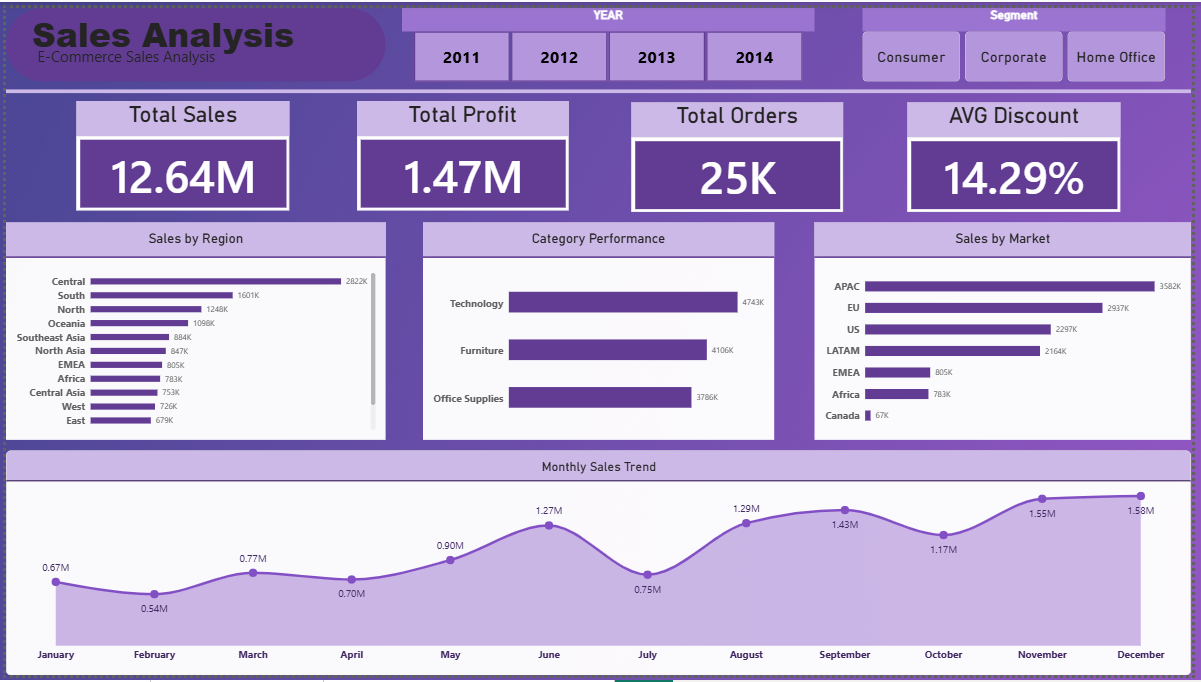

Layout of this report page (visuals, bound fields, positions):
{"tool":"powerbi","page":{"name":"Sales Analysis","canvas":[1920,1080],"ordinal":1},"visuals":[{"type":"shape","box":[0,0,614.5,119],"z":0},{"type":"barChart","title":"Sales by Region","fields":{"Category":["ecommerce_cleaned.region"],"Y":["ecommerce_cleaned.total_sales"]},"box":[0,347.3,614.5,352.2],"z":1000},{"type":"barChart","title":"Category Performance","fields":{"Category":["ecommerce_cleaned.category"],"Y":["ecommerce_cleaned.total_sales"]},"box":[675.2,347.3,568.3,352.2],"z":2000},{"type":"barChart","title":"Sales by Market","fields":{"Category":["ecommerce_cleaned.market"],"Y":["ecommerce_cleaned.total_sales"]},"box":[1309.1,347.3,609.6,352.2],"z":3000},{"type":"cardVisual","title":"Total Sales","fields":{"Data":["ecommerce_cleaned.total_sales"]},"box":[114.2,150.6,344.9,177.3],"z":4000},{"type":"cardVisual","title":"Total Profit","fields":{"Data":["ecommerce_cleaned.Total profit"]},"box":[568.3,150.6,342.5,177.3],"z":5000},{"type":"cardVisual","title":"Total Orders","fields":{"Data":["ecommerce_cleaned.Total orders"]},"box":[1012.8,153,342.5,177.3],"z":6000},{"type":"cardVisual","title":"AVG Discount","fields":{"Data":["ecommerce_cleaned.Average discount"]},"box":[1459.7,153,344.9,177.3],"z":7000},{"type":"shape","box":[0,46.1,1918.8,177.3],"z":8000},{"type":"slicer","title":"YEAR","fields":{"Values":["ecommerce_cleaned.order_date.Variation.Date Hierarchy.Year"]},"box":[641.2,0,667.9,119],"z":9000},{"type":"advancedSlicerVisual","title":"Segment","fields":{"Values":["ecommerce_cleaned.segment"]},"box":[1386.9,0,490.6,119],"z":10000},{"type":"textbox","box":[0,0,512.5,172.4],"z":11000},{"type":"areaChart","title":"Monthly Sales Trend","fields":{"Category":["ecommerce_cleaned.order_date.Variation.Date Hierarchy.Month"],"Y":["ecommerce_cleaned.total_sales"]},"box":[0,716.5,1918.8,364.3],"z":12000},{"type":"textbox","box":[51,60.7,376.5,89.9],"z":13000}]}

Visuals, with their boxes in screenshot pixels (x1, y1, x2, y2), scaled from the page's 1920x1080 canvas onto the 1201x682 screenshot:
shape: detection(0, 0, 384, 75)
"Sales by Region" barChart: detection(0, 219, 384, 442)
"Category Performance" barChart: detection(422, 219, 778, 442)
"Sales by Market" barChart: detection(819, 219, 1200, 442)
"Total Sales" cardVisual: detection(71, 95, 287, 207)
"Total Profit" cardVisual: detection(355, 95, 570, 207)
"Total Orders" cardVisual: detection(634, 97, 848, 209)
"AVG Discount" cardVisual: detection(913, 97, 1129, 209)
shape: detection(0, 29, 1200, 141)
"YEAR" slicer: detection(401, 0, 819, 75)
"Segment" advancedSlicerVisual: detection(868, 0, 1174, 75)
textbox: detection(0, 0, 321, 109)
"Monthly Sales Trend" areaChart: detection(0, 452, 1200, 681)
textbox: detection(32, 38, 267, 95)
